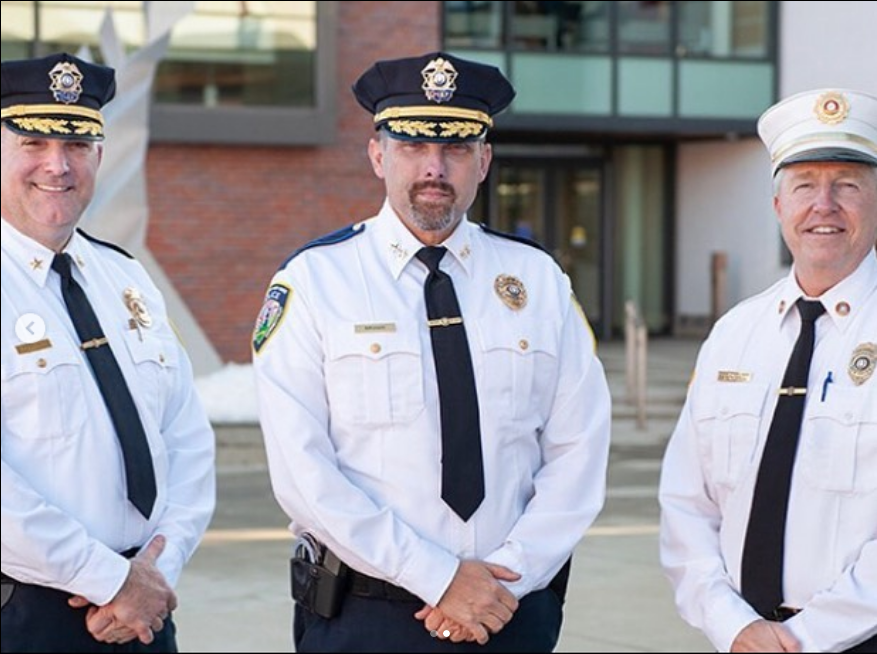Security: (312, 49, 574, 445), (701, 64, 869, 449), (5, 41, 141, 446)
